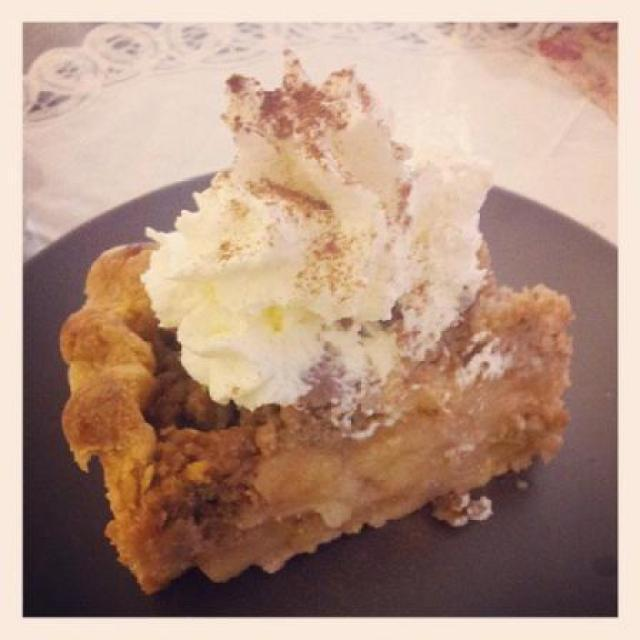Apple Pie: (63, 242, 582, 589)
